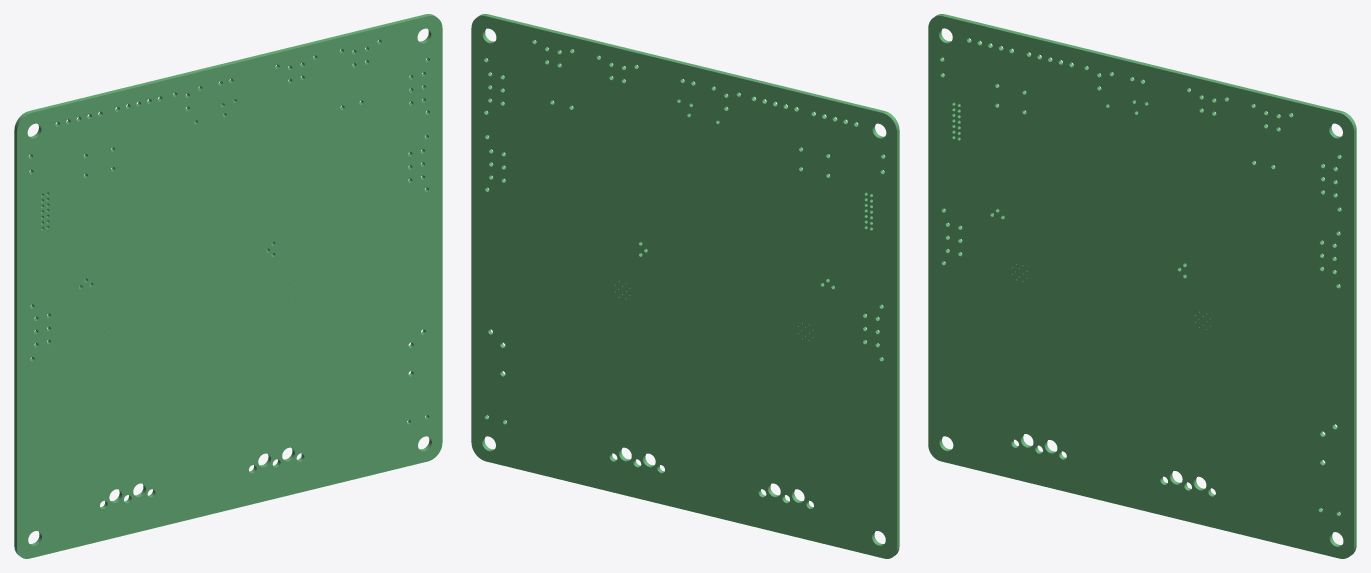
The model's file is Open_CASCADE_STEP_translator_7_5_1_1_1.gltf.
3 views of the same model, side by side, from view 1: azimuth 30°, elevation 25°; view 2: azimuth 150°, elevation 25°; view 3: azimuth 330°, elevation 25° (orthographic).
Parts seen in each view (by area): view 1: mesh92819, mesh92824, mesh92826; view 2: mesh92818, mesh92824, mesh92826; view 3: mesh92819, mesh92824, mesh92822.
Part boxes in pixels (x1,y1,x2,y2): mesh92819: [17, 16, 442, 558]; mesh92824: [30, 14, 426, 112]; mesh92826: [14, 130, 16, 547]; mesh92818: [471, 16, 896, 558]; mesh92824: [487, 14, 883, 112]; mesh92826: [897, 130, 899, 547]; mesh92819: [928, 16, 1353, 558]; mesh92824: [943, 14, 1341, 112]; mesh92822: [1354, 130, 1356, 546].
Bounding box in the file's own units: 0.1016 × 0.1016 × 0.00107.
